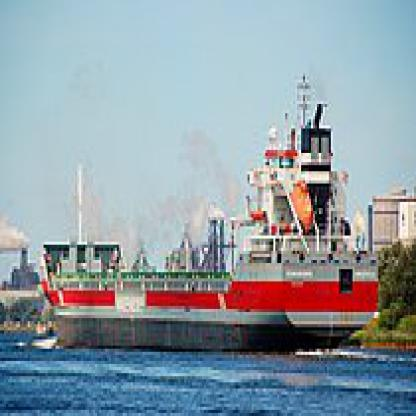Container Ship: (35, 71, 381, 351)
